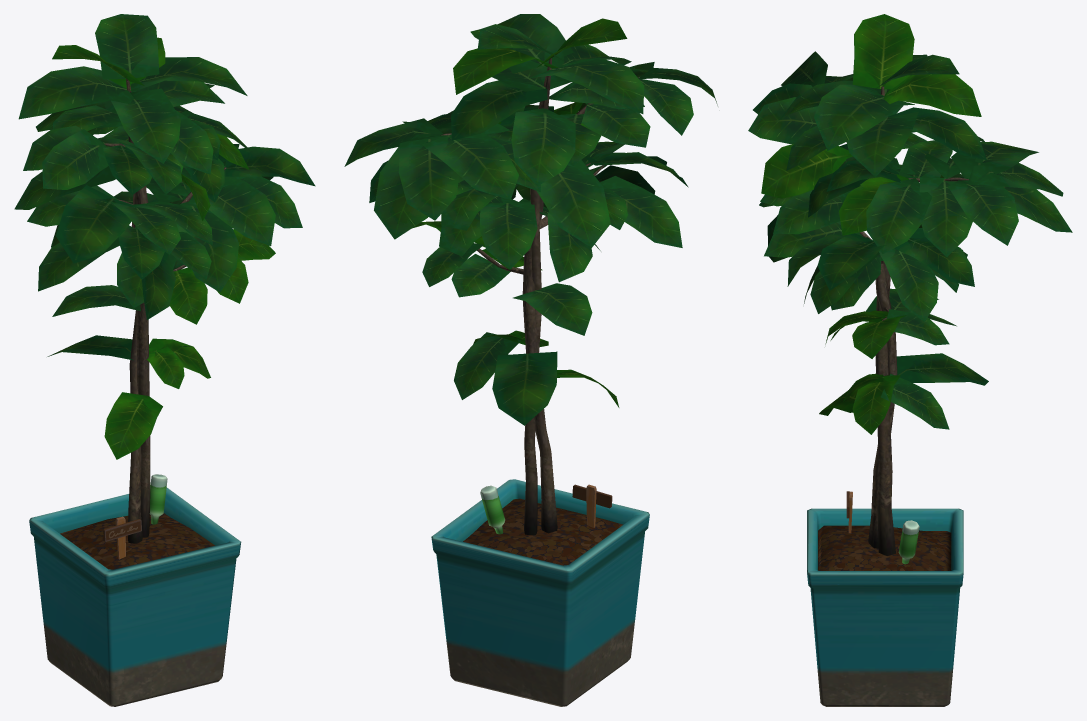
File: plant.fbx
The picture shows the model from 3 angles, left to right: view 1: azimuth 30°, elevation 25°; view 2: azimuth 150°, elevation 25°; view 3: azimuth 270°, elevation 25°; orthographic projection. The views are drawn at different scales.
Visible parts, largest first — view 1: pCylinder353__mPlant, flowerpot__mBody; view 2: pCylinder353__mPlant, flowerpot__mBody; view 3: pCylinder353__mPlant, flowerpot__mBody.
Part boxes in pixels (x1,y1,x2,y2): pCylinder353__mPlant: (14,14,315,543); flowerpot__mBody: (29,474,241,706); pCylinder353__mPlant: (344,14,717,534); flowerpot__mBody: (431,479,649,706); pCylinder353__mPlant: (748,14,1072,555); flowerpot__mBody: (807,491,963,706).
Bounding box in the file's own units: 155 × 330 × 154.
